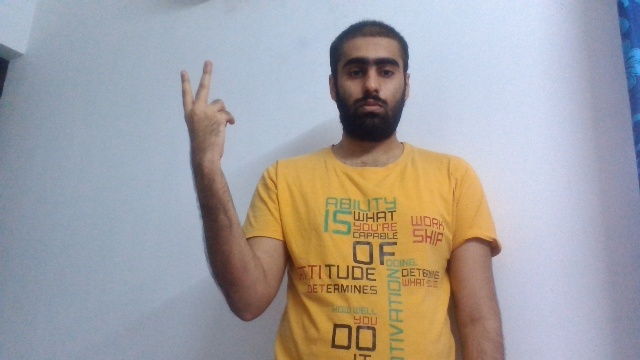scissors: (179, 59, 236, 165)
